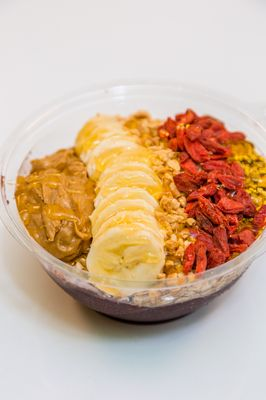sushi: (1, 97, 263, 323)
